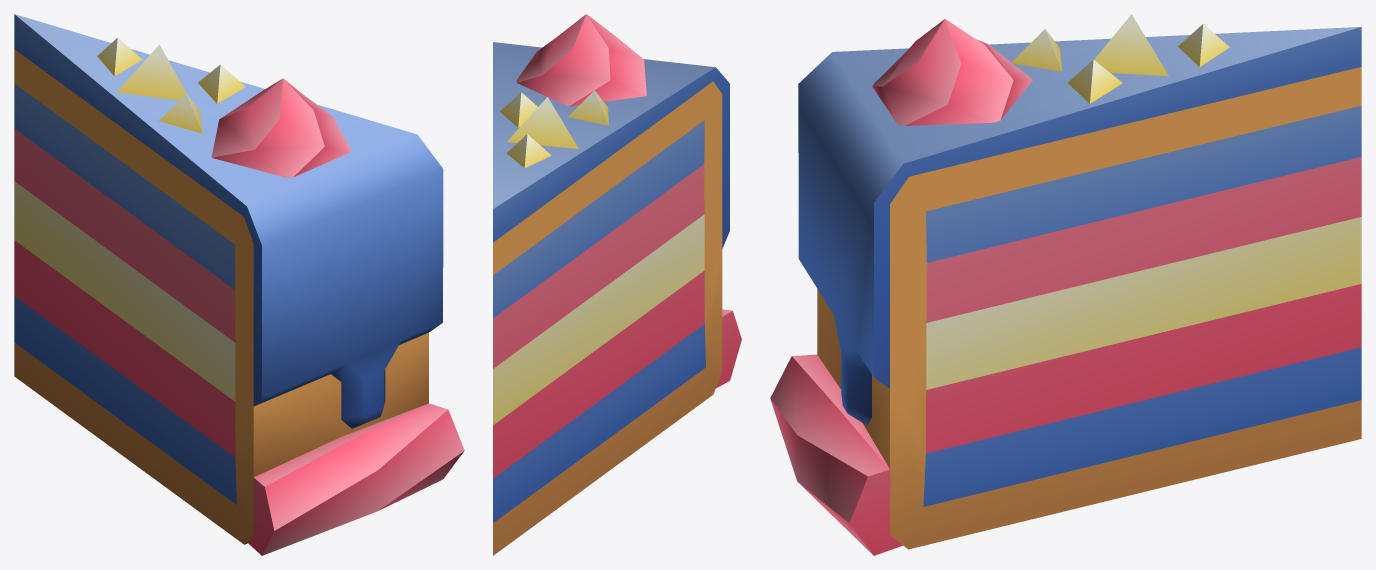
The model's file is m_TransCake01_Slice03.fbx.
3 renders of one model, left to right at view 1: azimuth 30°, elevation 25°; view 2: azimuth 150°, elevation 25°; view 3: azimuth 270°, elevation 25°, orthographic. The views are drawn at different scales.
Parts seen in each view (by area): view 1: m_TransCake01_Slice03; view 2: m_TransCake01_Slice03; view 3: m_TransCake01_Slice03.
Part boxes in pixels (x1,y1,x2,y2): m_TransCake01_Slice03: [14, 14, 464, 555]; m_TransCake01_Slice03: [493, 14, 741, 555]; m_TransCake01_Slice03: [770, 14, 1361, 555].
Size of the model in its own units: 7.6 by 13.31 by 15.21.
